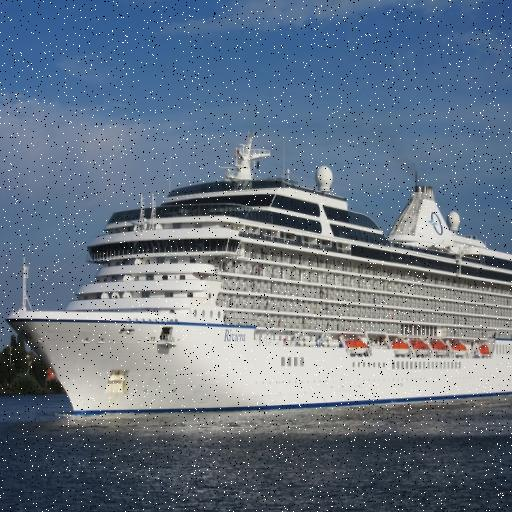cruises: (3, 127, 512, 425)
